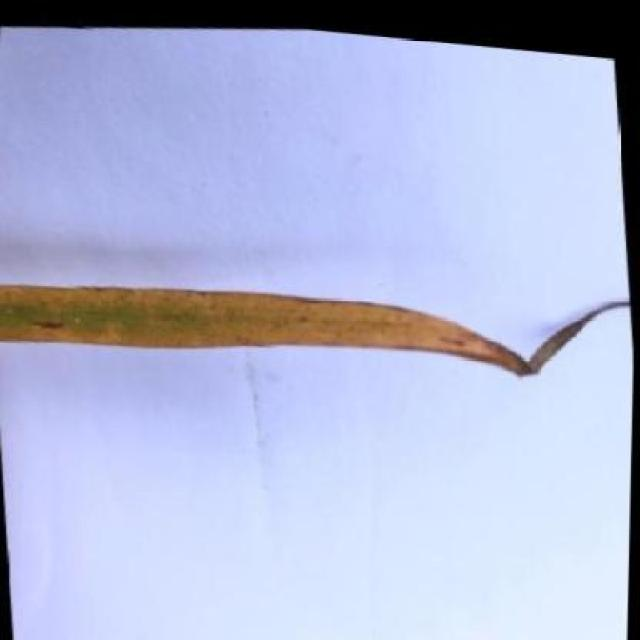Rice False Smut: (0, 173, 637, 424)
